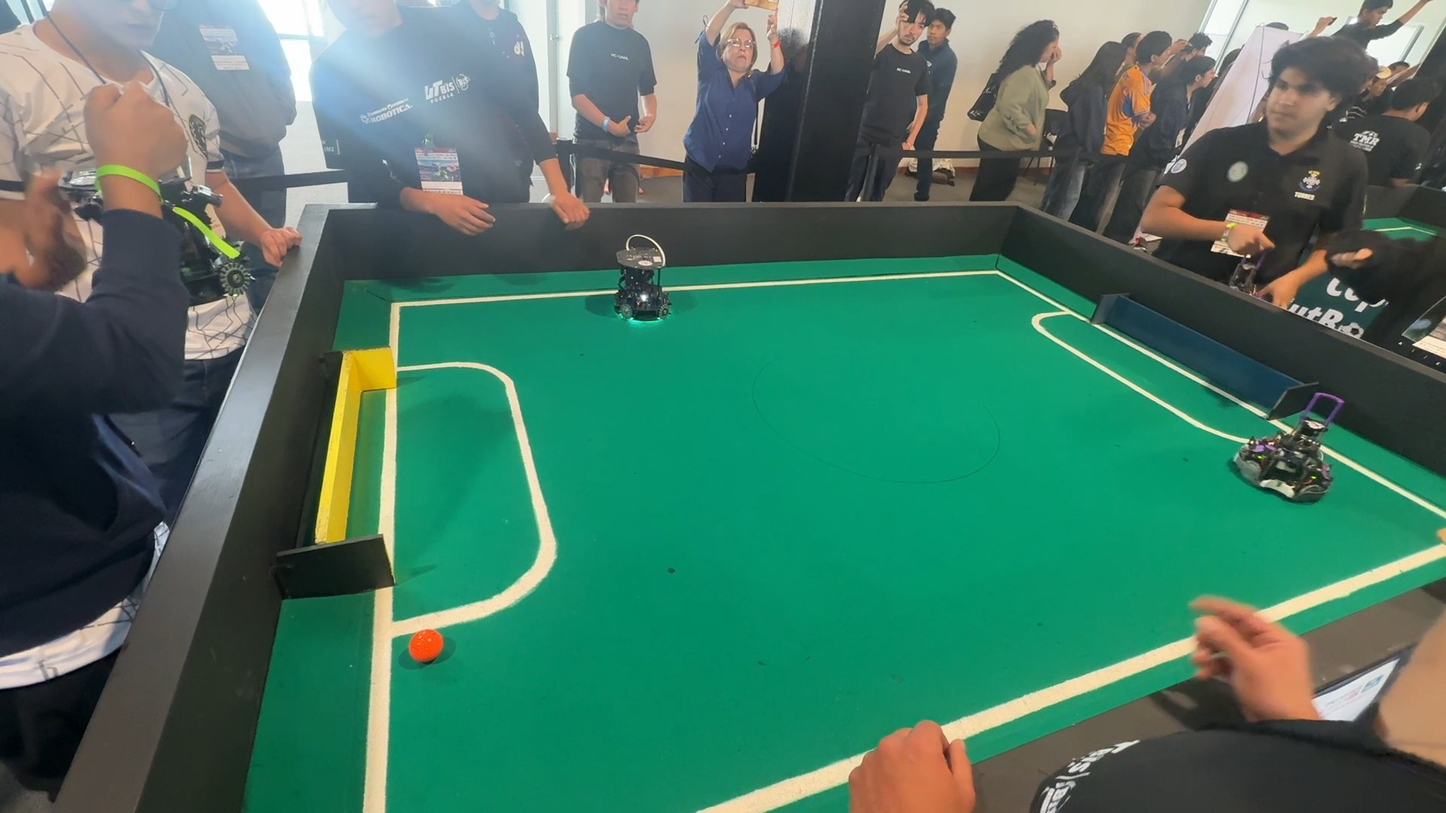Robot: (1228, 390, 1360, 513), (598, 231, 690, 336)
pelota: (401, 625, 453, 672)
